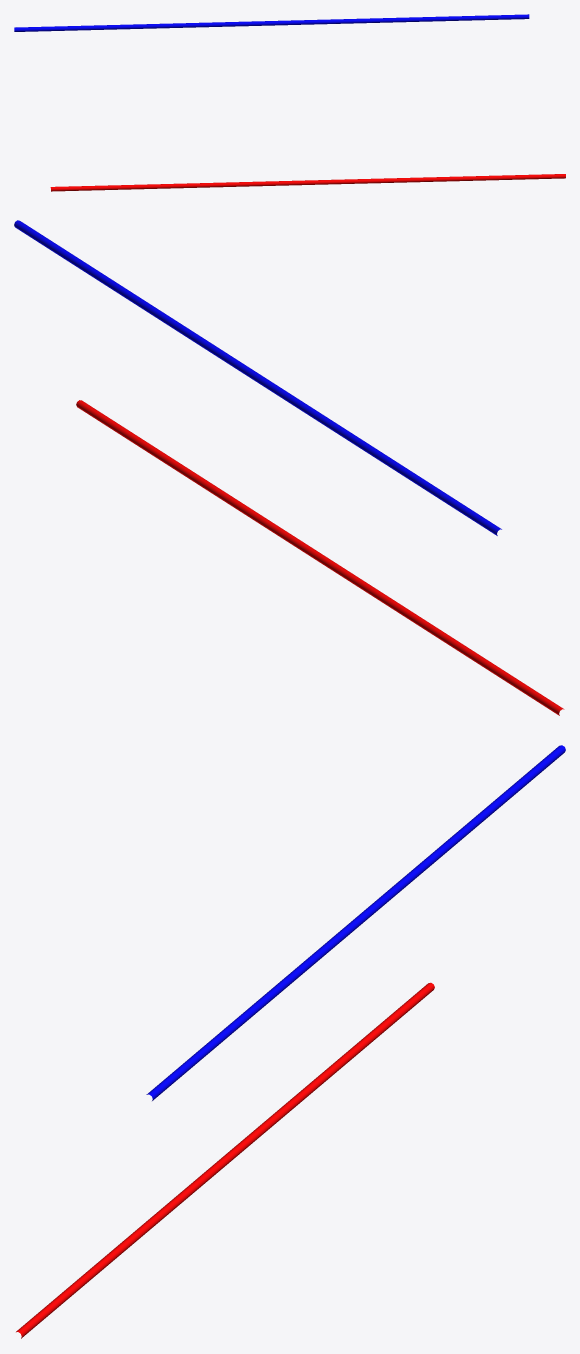
The picture shows the model from 3 angles, top to bottom: view 1: azimuth 30°, elevation 25°; view 2: azimuth 150°, elevation 25°; view 3: azimuth 270°, elevation 25°; orthographic projection. The views are drawn at different scales.
Parts seen in each view (by area): view 1: g, f; view 2: f, g; view 3: g, f.
Part boxes in pixels (<box>): g: <box>14,14,529,31</box>; f: <box>50,174,565,191</box>; f: <box>76,400,564,715</box>; g: <box>14,220,501,535</box>; g: <box>146,745,565,1100</box>; f: <box>16,982,434,1338</box>.
Size of the model in its own units: 0.0951 by 0.031 by 0.0632.
